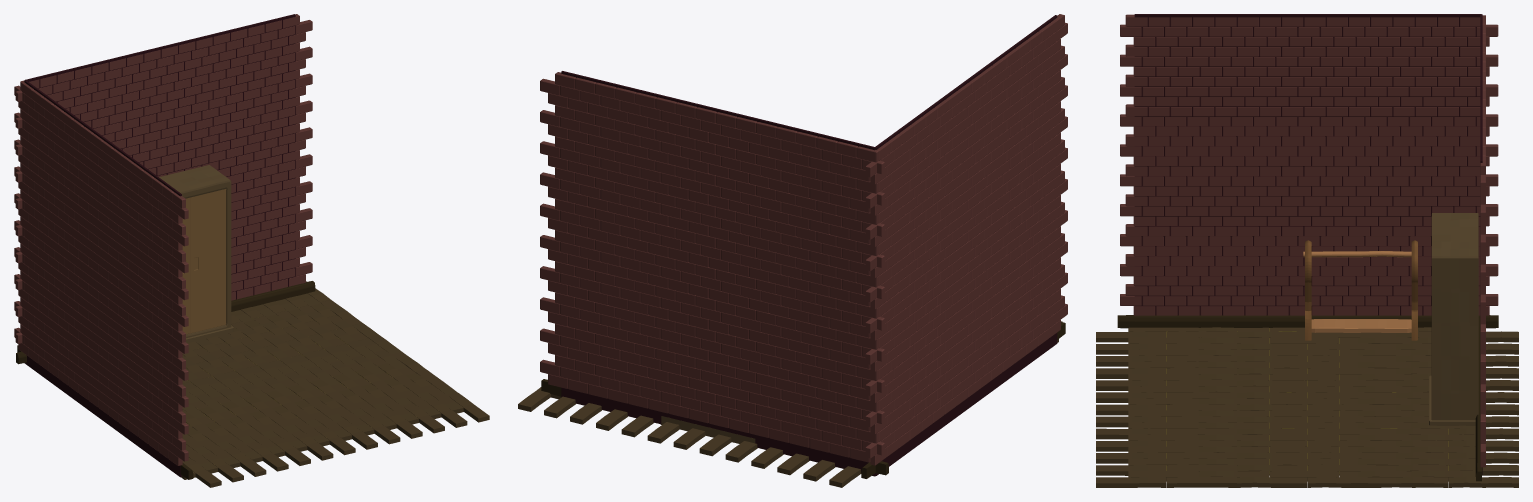
File: Armory.fbx
3 renders of one model, left to right at view 1: azimuth 30°, elevation 25°; view 2: azimuth 150°, elevation 25°; view 3: azimuth 270°, elevation 25°, orthographic. The views are drawn at different scales.
Parts seen in each view (by area): view 1: Cube.009, Cube.010, Cube.003, Cube.002, Cube.014, Cube.011, Cube.001, Cube.005, Cube.013; view 2: Cube.010, Cube.009, Cube.003, Cube.002, Cube.001, Cube.012; view 3: Cube.009, Cube.003, Cube.001, Cube.011, Cube.004, Cube.010, Cube.008, Cube.005, Cube.006, Cube.007, Cylinder, Cube.002.
Boxes of the visible parts, <box> form: Cube.009: <box>14,82,188,465</box>; Cube.010: <box>15,14,312,343</box>; Cube.003: <box>181,281,489,487</box>; Cube.002: <box>25,14,295,299</box>; Cube.014: <box>190,189,226,333</box>; Cube.011: <box>159,165,231,337</box>; Cube.001: <box>24,80,181,477</box>; Cube.005: <box>16,281,315,364</box>; Cube.013: <box>182,197,189,334</box>; Cube.010: <box>540,72,884,462</box>; Cube.009: <box>865,14,1067,465</box>; Cube.003: <box>518,321,1062,487</box>; Cube.002: <box>561,71,875,476</box>; Cube.001: <box>874,15,1057,475</box>; Cube.012: <box>660,416,755,443</box>; Cube.009: <box>1120,14,1498,315</box>; Cube.003: <box>1096,327,1518,487</box>; Cube.001: <box>1134,14,1481,315</box>; Cube.011: <box>1431,213,1478,420</box>; Cube.004: <box>1117,315,1498,328</box>; Cube.010: <box>1480,15,1485,467</box>; Cube.008: <box>1311,319,1411,332</box>; Cube.005: <box>1475,317,1482,481</box>; Cube.006: <box>1305,240,1311,340</box>; Cube.007: <box>1411,240,1417,340</box>; Cylinder: <box>1303,251,1411,257</box>; Cube.002: <box>1480,14,1482,474</box>.
Size of the model in its own units: 3335 by 3019 by 3658.
